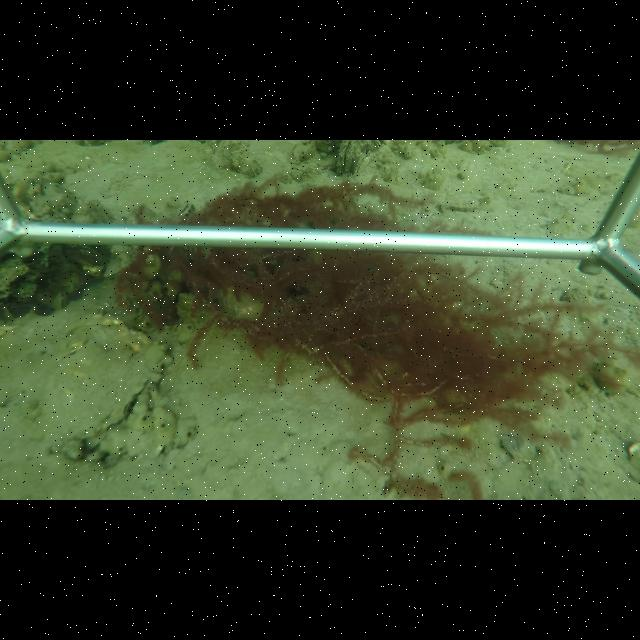Oyster-Closed: (30, 309, 173, 461)
Oyster-Open: (334, 142, 360, 174)
